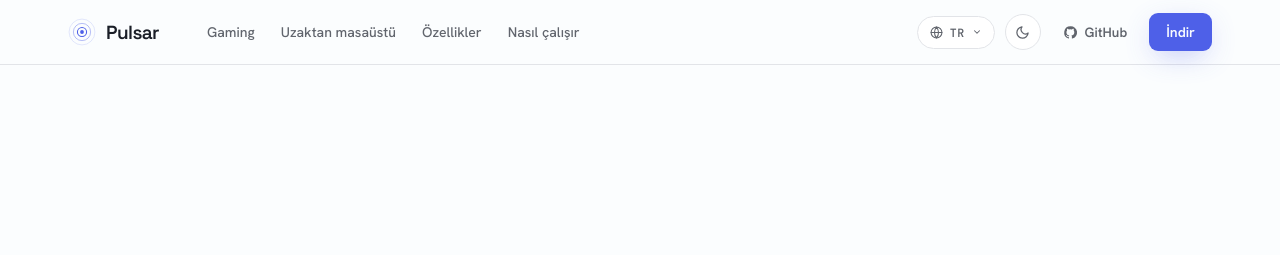
Test case: SiteHeader › switches to English and localizes the nav
This screenshot has width=1280, height=255.
Click the button with aria-label "Dil / Language". click: click(956, 32)
box: [917,16,994,48]
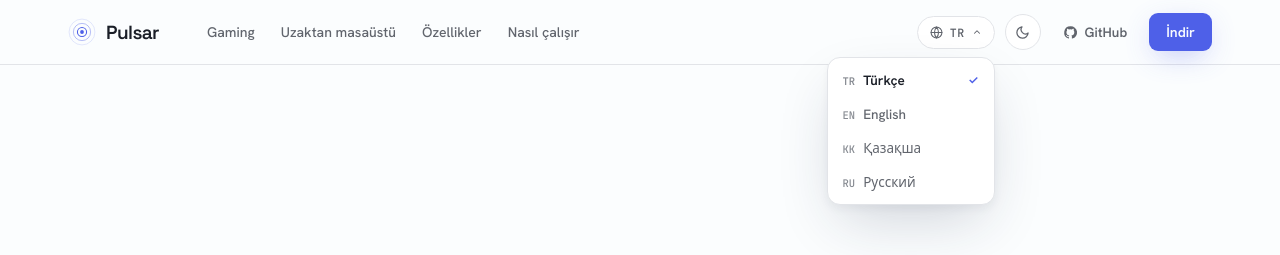
Click the option "English". click: click(911, 114)
box: [833,96,989,130]
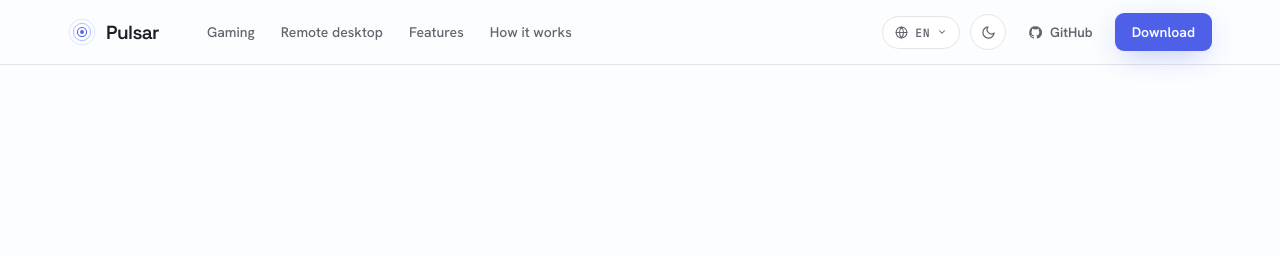
Expected: the link "Download" is shown, [1115,13,1212,51]
Now the link "Remote desktop" is shown, box [281,23,383,41]
